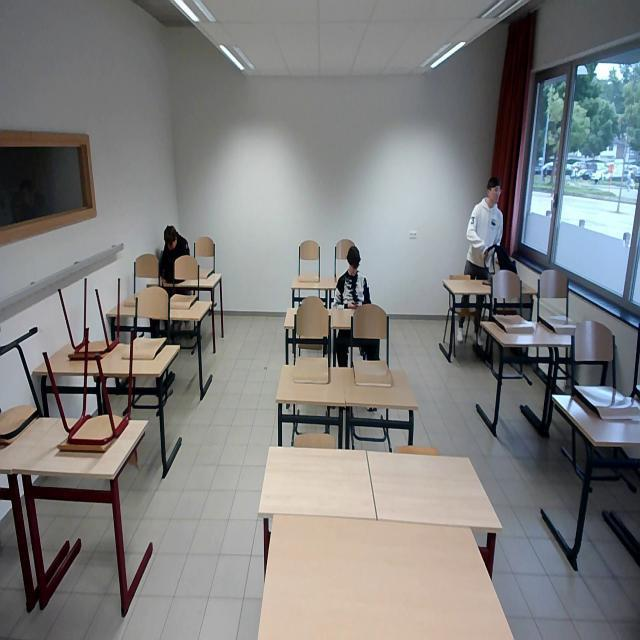Looking away: (466, 171, 513, 241)
Phone use: (331, 240, 376, 312), (156, 222, 191, 276)
